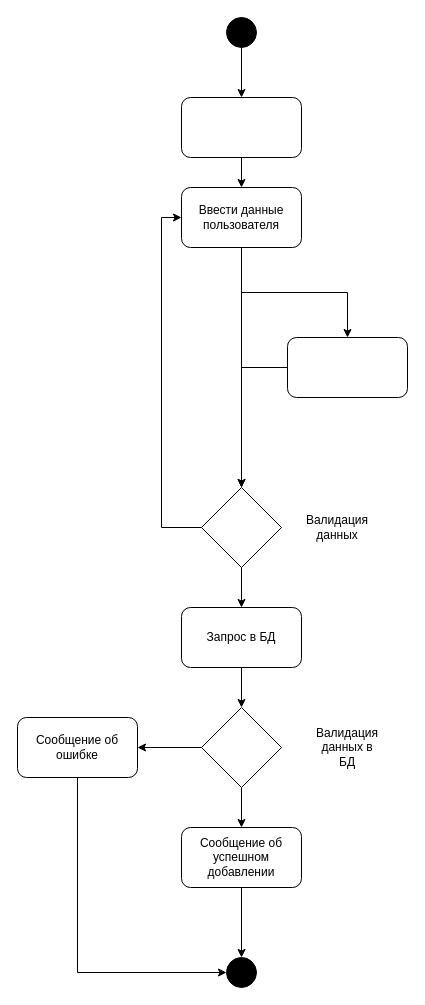
Image size: 425x1005. Some labels were removed from this diagram. Each missing label, with the centre of its shape:
"Загрузить фото" goes at (347,367).
"Открыть вкладку добавления добавления разработчкика" goes at (241,127).
